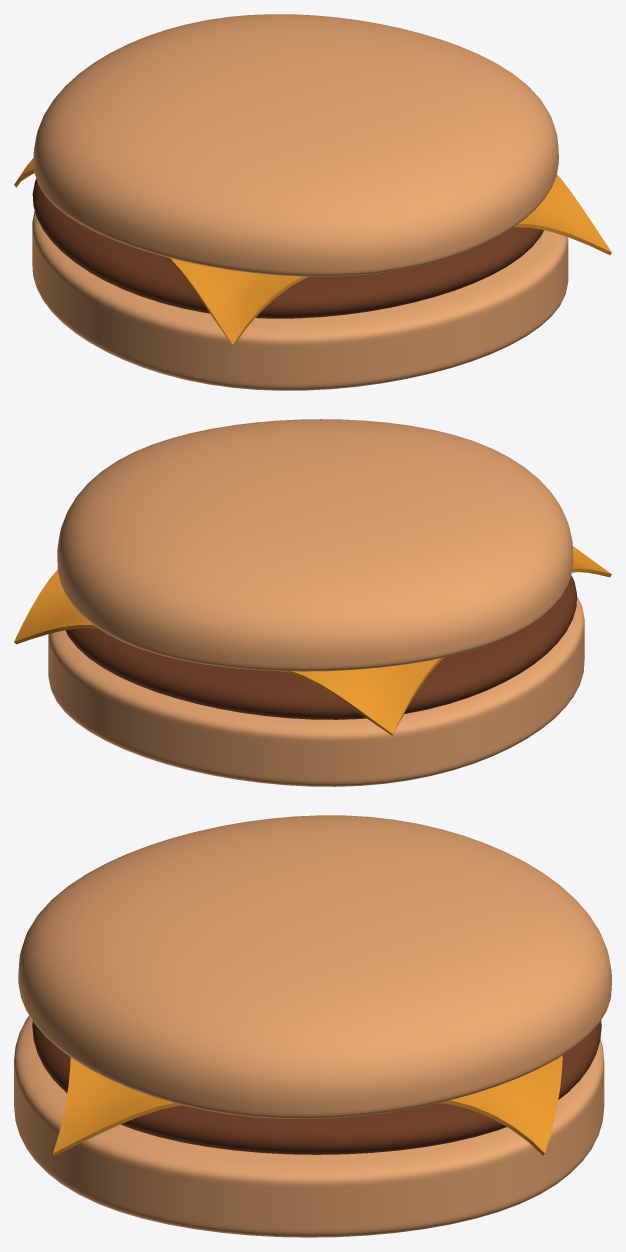
File: hamburger.gltf
3 renders of one model, top to bottom at view 1: azimuth 30°, elevation 25°; view 2: azimuth 150°, elevation 25°; view 3: azimuth 270°, elevation 25°, orthographic. The views are drawn at different scales.
Parts seen in each view (by area): view 1: Bun_top, Bun_bottom, Meat, Cheese; view 2: Bun_top, Bun_bottom, Meat, Cheese; view 3: Bun_top, Bun_bottom, Meat, Cheese.
Boxes of the visible parts, <box> form: Bun_top: <box>33,14,558,276</box>; Bun_bottom: <box>32,211,568,390</box>; Meat: <box>32,179,543,318</box>; Cheese: <box>14,158,611,346</box>; Bun_top: <box>57,419,573,671</box>; Bun_bottom: <box>48,596,584,786</box>; Meat: <box>65,575,576,719</box>; Cheese: <box>14,546,611,735</box>; Bun_top: <box>18,815,611,1118</box>; Bun_bottom: <box>14,1015,604,1237</box>; Meat: <box>32,1020,601,1154</box>; Cheese: <box>53,1055,562,1155</box>.
Bounding box in the file's own units: 9.62 × 4.11 × 9.69.
